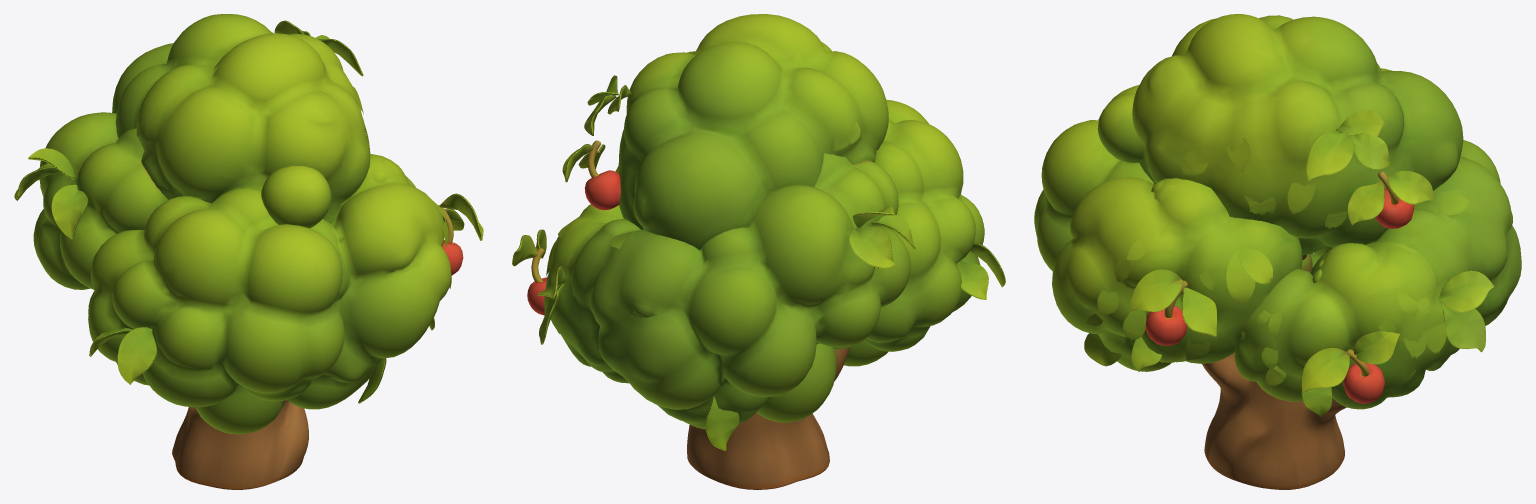
The model's file is C38-C40_tree_round.fbx.
3 views of the same model, side by side, from view 1: azimuth 30°, elevation 25°; view 2: azimuth 150°, elevation 25°; view 3: azimuth 270°, elevation 25° (orthographic). The views are drawn at different scales.
Parts seen in each view (by area): view 1: tripo_node_30ea4aba; view 2: tripo_node_30ea4aba; view 3: tripo_node_30ea4aba.
Boxes of the visible parts, x1,y1,x2,y2 form: tripo_node_30ea4aba: [14, 14, 483, 489]; tripo_node_30ea4aba: [512, 14, 1005, 489]; tripo_node_30ea4aba: [1034, 14, 1521, 489].
Size of the model in its own units: 0.98 by 0.9995 by 0.9976.
